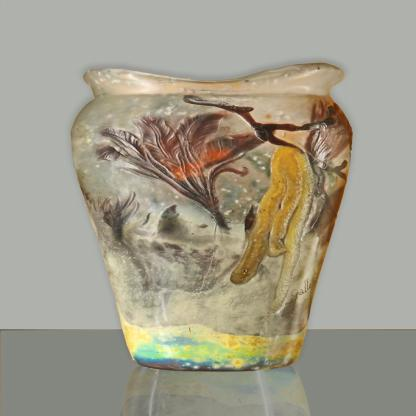vase: (67, 60, 354, 371)
